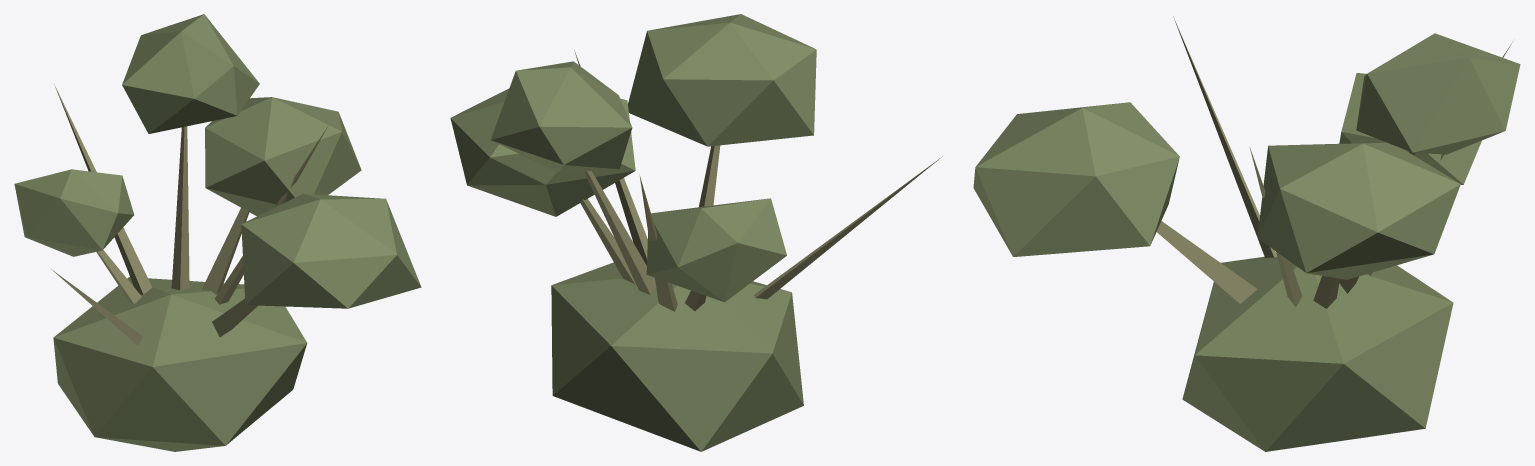
The model's file is scrub_4.glb.
The picture shows the model from 3 angles, left to right: view 1: azimuth 30°, elevation 25°; view 2: azimuth 150°, elevation 25°; view 3: azimuth 270°, elevation 25°; orthographic projection. The views are drawn at different scales.
Visible parts, largest first — view 1: scrub_4.001; view 2: scrub_4.001; view 3: scrub_4.001.
Boxes of the visible parts, x1,y1,x2,y2 form: scrub_4.001: (14,14,421,451); scrub_4.001: (450,14,942,451); scrub_4.001: (973,16,1520,451).
Size of the model in its own units: 1.66 by 1.55 by 1.71.
